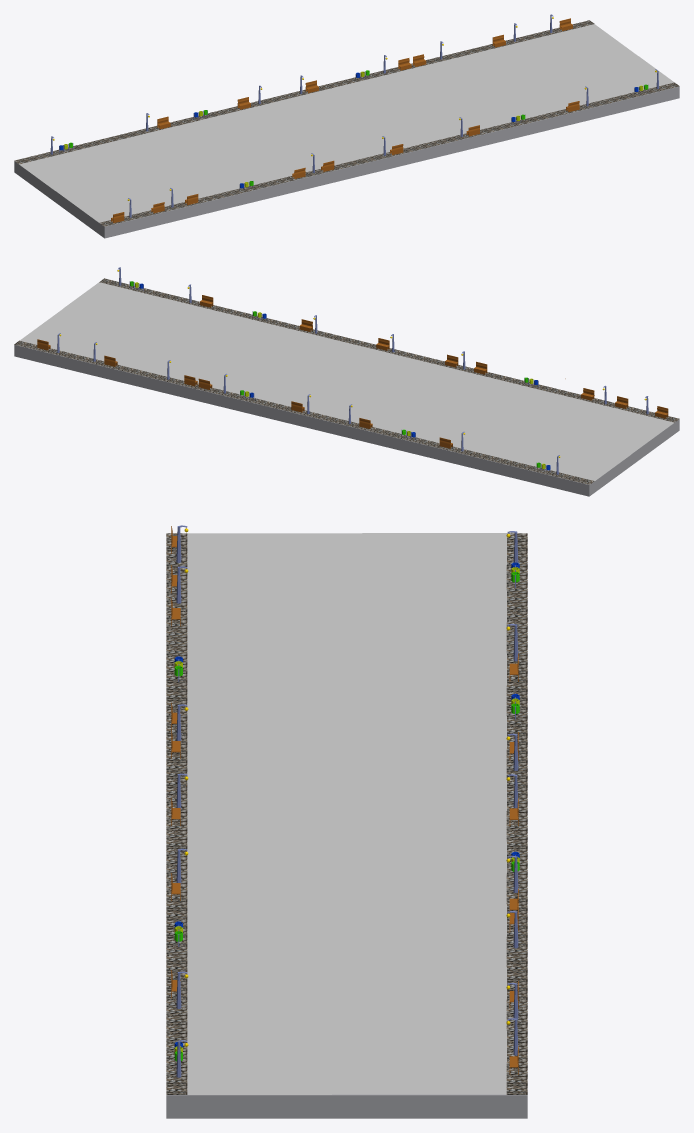
Rendered from Arena1.fbx.
3 views of the same model, one above another, from view 1: azimuth 30°, elevation 25°; view 2: azimuth 150°, elevation 25°; view 3: azimuth 270°, elevation 25° (orthographic). The views are drawn at different scales.
Visible parts, largest first — view 1: sueloHierba, Tierra, sueloPiedra, sueloPiedra.001; view 2: sueloHierba, Tierra, sueloPiedra.001, sueloPiedra; view 3: sueloHierba, sueloPiedra, sueloPiedra.001, Tierra.
Boxes of the visible parts, x1=… form: sueloHierba: x1=19, y1=24, x2=674, y2=222; Tierra: x1=14, y1=86, x2=679, y2=238; sueloPiedra: x1=99, y1=82, x2=679, y2=226; sueloPiedra.001: x1=14, y1=20, x2=594, y2=164; sueloHierba: x1=20, y1=282, x2=673, y2=480; Tierra: x1=14, y1=344, x2=679, y2=496; sueloPiedra.001: x1=14, y1=340, x2=594, y2=484; sueloPiedra: x1=99, y1=278, x2=679, y2=422; sueloHierba: x1=187, y1=533, x2=506, y2=1094; sueloPiedra: x1=166, y1=533, x2=187, y2=1094; sueloPiedra.001: x1=506, y1=533, x2=527, y2=1094; Tierra: x1=166, y1=1094, x2=527, y2=1118.
Size of the model in its own units: 10394 by 515 by 2825.
